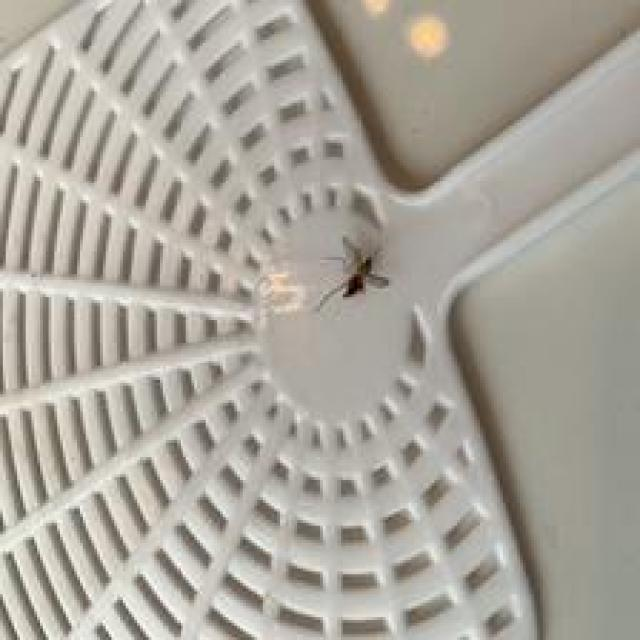Culex: (314, 234, 392, 312)
